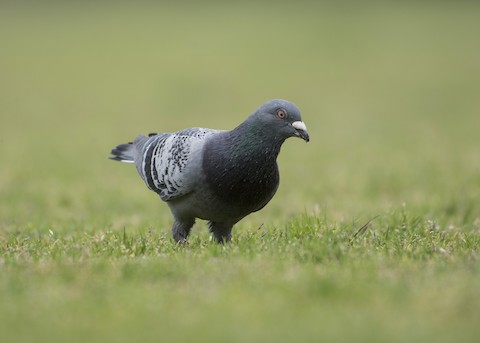pigeon: (102, 96, 311, 250)
